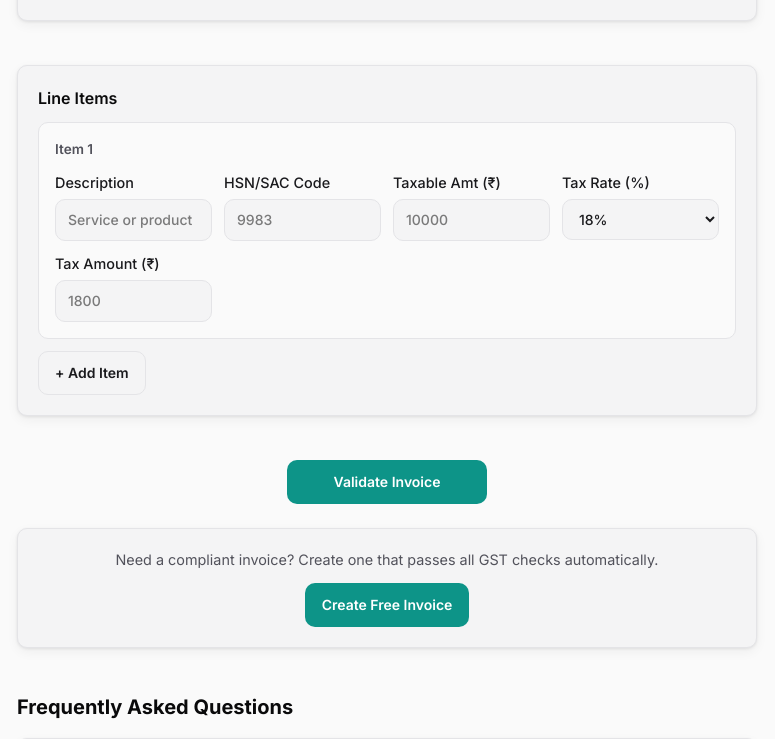
Test: InvoiceValidatorPage › adds a new item when clicking add
(page scrolled)
Check: the text "Item 1" is shown, box [55,139,93,160]
What coordinates should you click on to do the following:
click the button "+ Add Item"
I would click on:
 (92, 373)
Its box is [38,351,146,395].
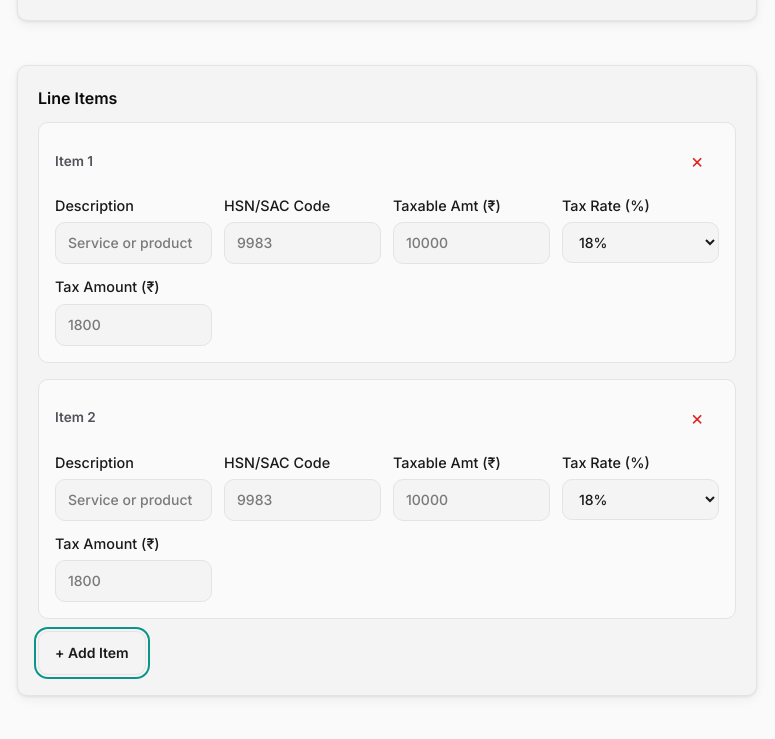
Check: the text "Item 2" is shown, box [55,407,96,428]
